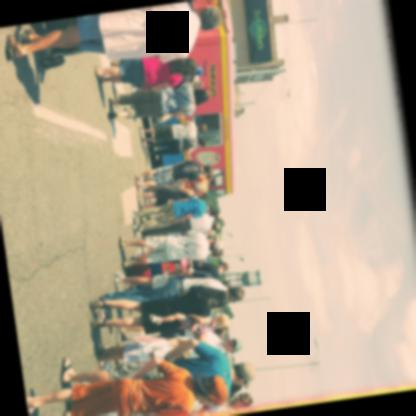handbag: (156, 104, 194, 123)
